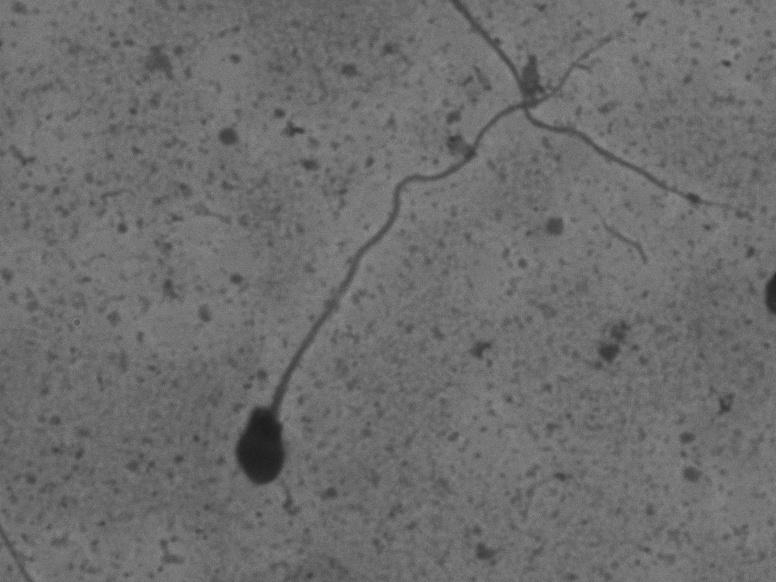Abnormal: (218, 24, 627, 511)
